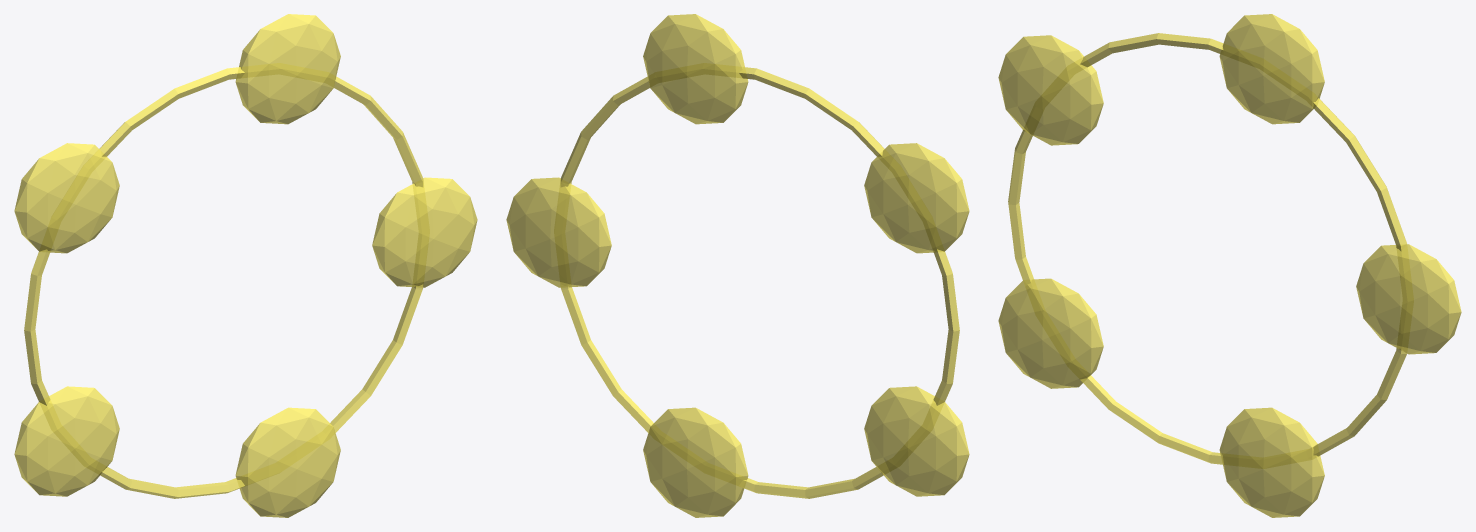
File: vfx_stagger_stars.glb
3 renders of one model, left to right at view 1: azimuth 30°, elevation 25°; view 2: azimuth 150°, elevation 25°; view 3: azimuth 330°, elevation 25°, orthographic.
Visible parts, largest first — view 1: orbit, star_4, star_2, star_3, star_1, star_0; view 2: orbit, star_4, star_2, star_3, star_1, star_0; view 3: orbit, star_1, star_2, star_0, star_3, star_4.
Boxes of the visible parts, box(x1,y1,x2,y2) form: orbit: box(24, 67, 423, 498); star_4: box(235, 407, 340, 517); star_2: box(14, 143, 119, 253); star_3: box(14, 386, 119, 496); star_1: box(235, 14, 340, 124); star_0: box(372, 177, 477, 287); orbit: box(560, 67, 959, 498); star_4: box(643, 407, 748, 517); star_2: box(864, 143, 969, 253); star_3: box(864, 386, 969, 496); star_1: box(643, 14, 748, 124); star_0: box(506, 177, 611, 287); orbit: box(1008, 33, 1406, 464); star_1: box(1219, 14, 1324, 124); star_2: box(998, 35, 1103, 145); star_0: box(1356, 244, 1461, 354); star_3: box(998, 278, 1103, 388); star_4: box(1219, 407, 1324, 517).
Bounding box in the file's own units: 1.05 × 1.1 × 0.07.
